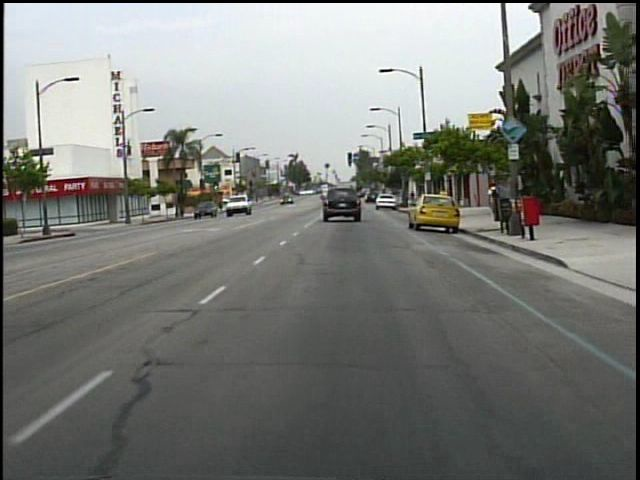person: (480, 179, 503, 219)
